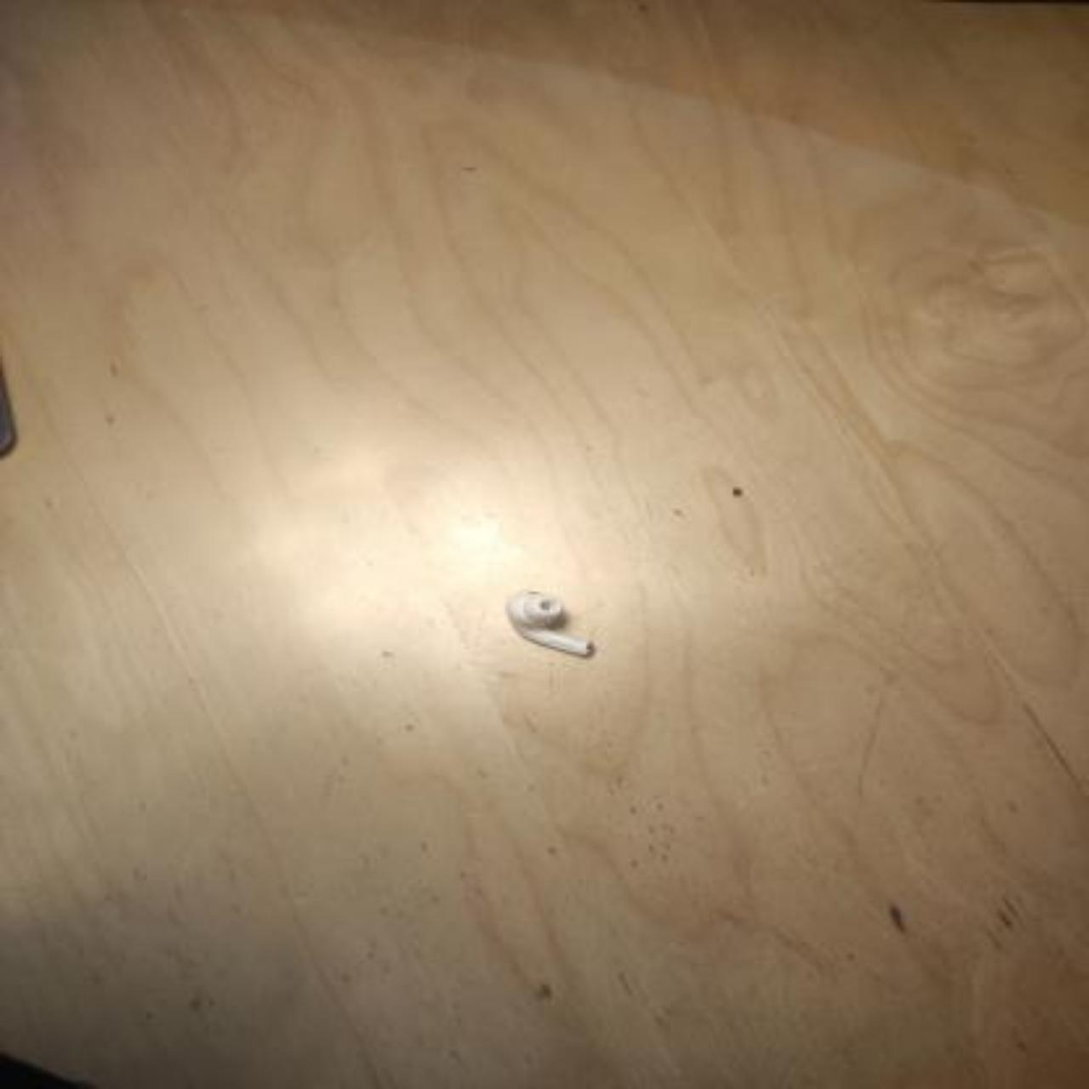Airpods_Units: (505, 589, 598, 662)
